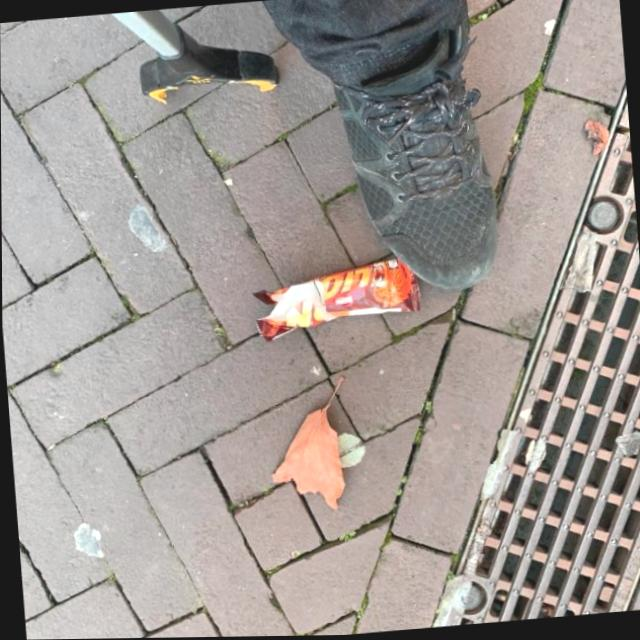Plastic: (247, 255, 425, 345)
